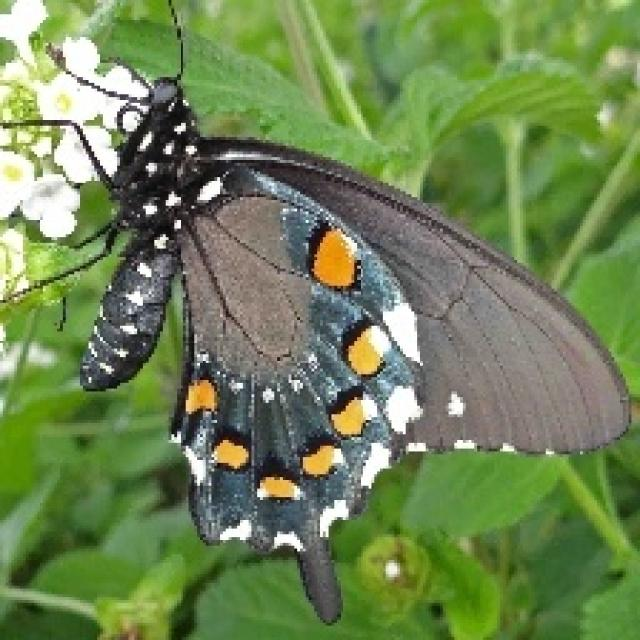butterfly: (0, 0, 634, 625)
